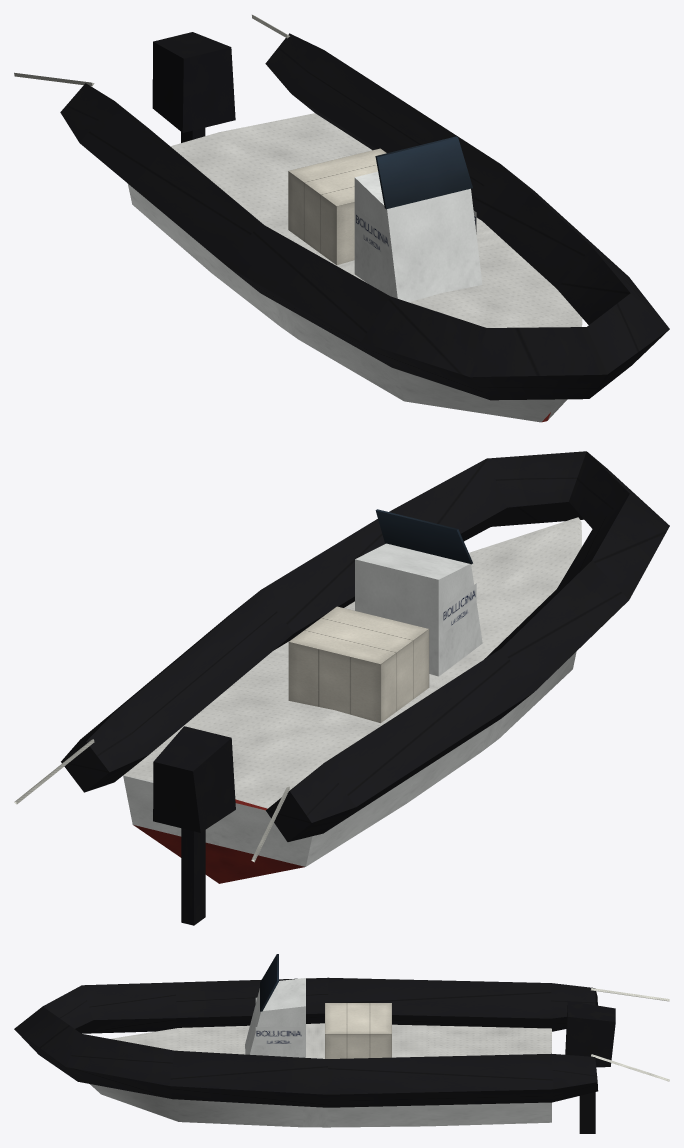
The model's file is SM_Morin_Barca_Gommone_Nero_LOD2.fbx.
3 views of the same model, one above another, from view 1: azimuth 30°, elevation 25°; view 2: azimuth 150°, elevation 25°; view 3: azimuth 270°, elevation 25° (orthographic). The views are drawn at different scales.
Visible parts, largest first — view 1: SM_Morin_Barca_Gommone_Nero_LOD2; view 2: SM_Morin_Barca_Gommone_Nero_LOD2; view 3: SM_Morin_Barca_Gommone_Nero_LOD2.
Part boxes in pixels (left/top/right/bottom): SM_Morin_Barca_Gommone_Nero_LOD2: left=14, top=14, right=669, bottom=422; SM_Morin_Barca_Gommone_Nero_LOD2: left=14, top=451, right=669, bottom=925; SM_Morin_Barca_Gommone_Nero_LOD2: left=14, top=954, right=669, bottom=1133.
Bounding box in the file's own units: 220 × 586 × 162.
Materials: 1 (1 with a texture image).
